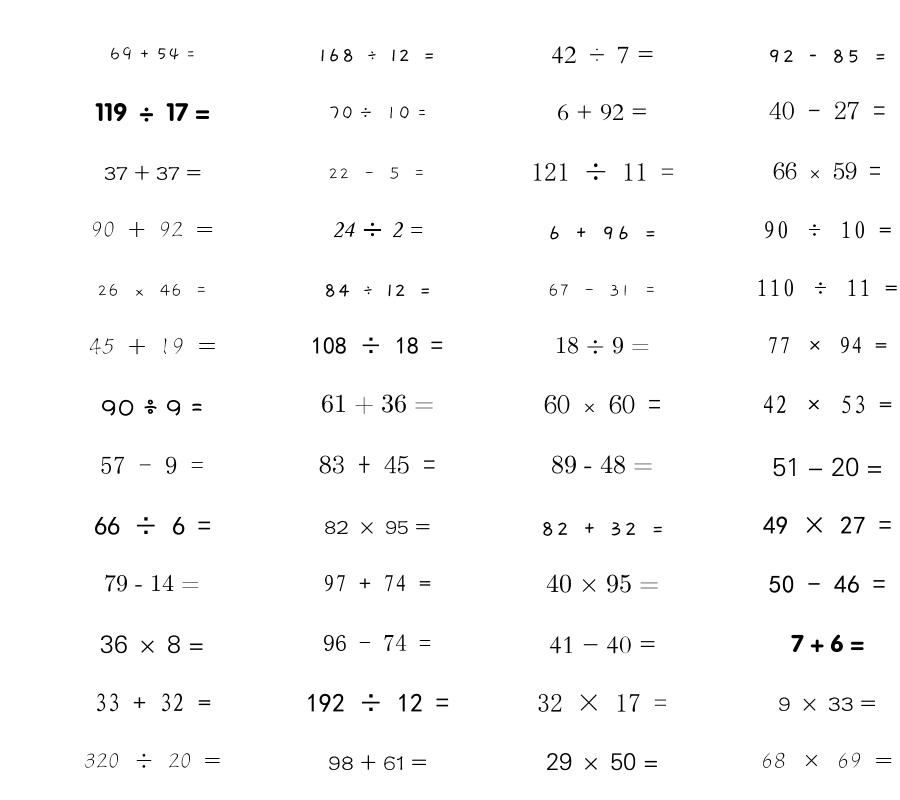MQ: (531, 162, 674, 181), (306, 693, 449, 712), (756, 279, 898, 297), (762, 395, 892, 414), (537, 693, 667, 712), (311, 337, 443, 355), (321, 394, 434, 415), (544, 394, 661, 414), (763, 221, 892, 239), (763, 516, 892, 534), (95, 102, 210, 122), (89, 337, 216, 355), (769, 101, 886, 120), (319, 455, 436, 474), (94, 516, 211, 535), (769, 575, 886, 594), (94, 693, 211, 712), (772, 457, 883, 477), (767, 336, 887, 354), (546, 574, 659, 593), (761, 752, 893, 768), (84, 753, 221, 768), (546, 753, 659, 771), (100, 635, 204, 654), (91, 221, 214, 237), (773, 162, 881, 180), (323, 574, 431, 592), (551, 455, 653, 474), (549, 636, 656, 654), (540, 521, 665, 536), (100, 456, 204, 474), (551, 46, 654, 64), (323, 634, 431, 651), (101, 399, 203, 416), (104, 574, 200, 592), (555, 336, 650, 354), (328, 754, 427, 771), (767, 49, 887, 63), (319, 48, 436, 62), (97, 283, 208, 297), (104, 165, 201, 181), (557, 104, 648, 121), (547, 226, 657, 240), (548, 283, 657, 297), (324, 520, 430, 534), (332, 222, 423, 238), (323, 284, 432, 297), (791, 634, 864, 653), (328, 106, 427, 120), (778, 697, 876, 711), (328, 167, 426, 180), (109, 47, 196, 61)
